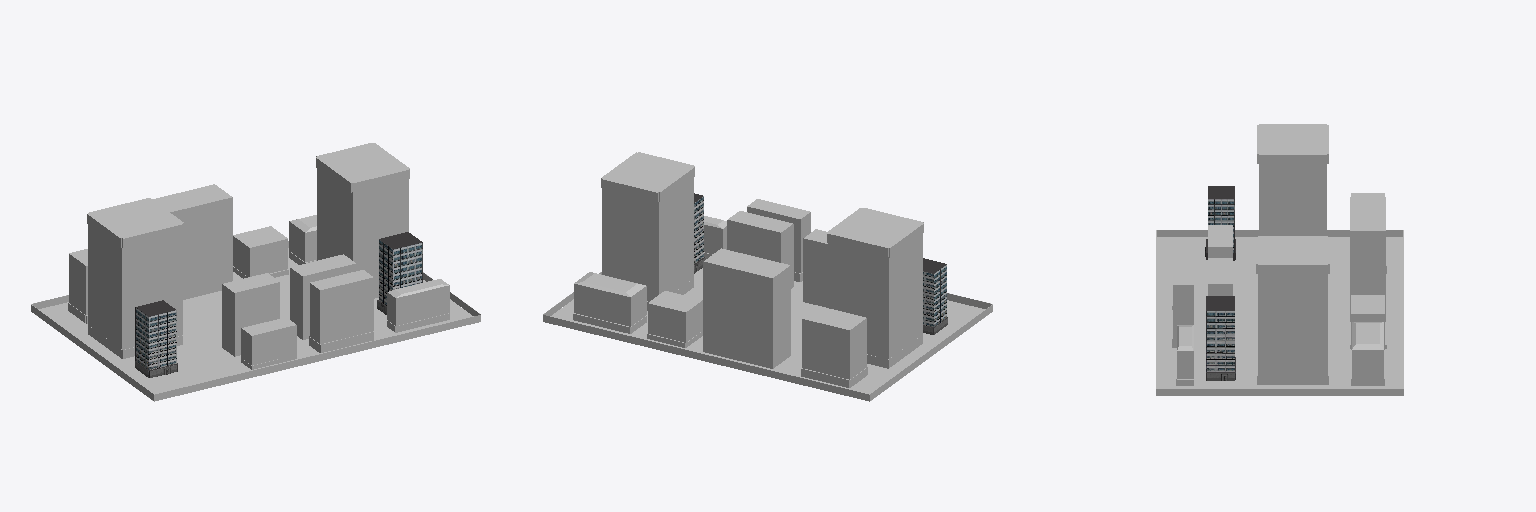
3 views of the same model, side by side, from view 1: azimuth 30°, elevation 25°; view 2: azimuth 150°, elevation 25°; view 3: azimuth 270°, elevation 25° (orthographic).
Visible parts, largest first — view 1: Box087, Box072, Plane001, Box086, Box079, Box076, Box067, Box075, Box085, Box088, Box078, Box081 (+4 smaller); view 2: Box087, Box072, Box086, Plane001, Box089, Box090, Box077, Box088, Box080, Box076, Box067, Box079 (+3 smaller); view 3: Plane001, Box072, Box087, Box086, Box085, Box090, Box083, Box079, Box067, Box075, Box088, Box077 (+2 smaller).
Part boxes in pixels (x1,y1,x2,y2): Box087: (87,198,183,358); Box072: (316,143,409,298); Plane001: (36,248,473,400); Box086: (152,184,232,299); Box079: (309,270,373,352); Box076: (222,273,279,356); Box067: (135,300,177,377); Box075: (387,279,449,332); Box085: (377,232,422,314); Box088: (233,226,288,278); Box078: (241,317,296,369); Box081: (154,315,480,401); Box087: (827,208,923,368); Box072: (601,152,694,310); Box086: (703,248,790,368); Plane001: (550,268,987,400); Box089: (801,306,867,387); Box090: (573,272,646,333); Box077: (727,211,793,288); Box088: (647,291,702,347); Box080: (543,315,869,401); Box076: (803,229,827,307); Box067: (923,258,947,334); Box079: (747,199,810,281); Plane001: (1157,237,1402,388); Box072: (1256,236,1329,384); Box087: (1257,124,1328,235); Box086: (1350,197,1385,321); Box085: (1206,296,1235,380); Box090: (1351,322,1384,385); Box083: (1157,389,1403,395); Box079: (1172,259,1193,347); Box067: (1205,186,1235,260); Box075: (1176,325,1193,385); Box088: (1350,295,1386,349); Box077: (1208,258,1232,295).
Size of the model in its own units: 245 by 86.88 by 160.
Materials: 6 (1 with a texture image).